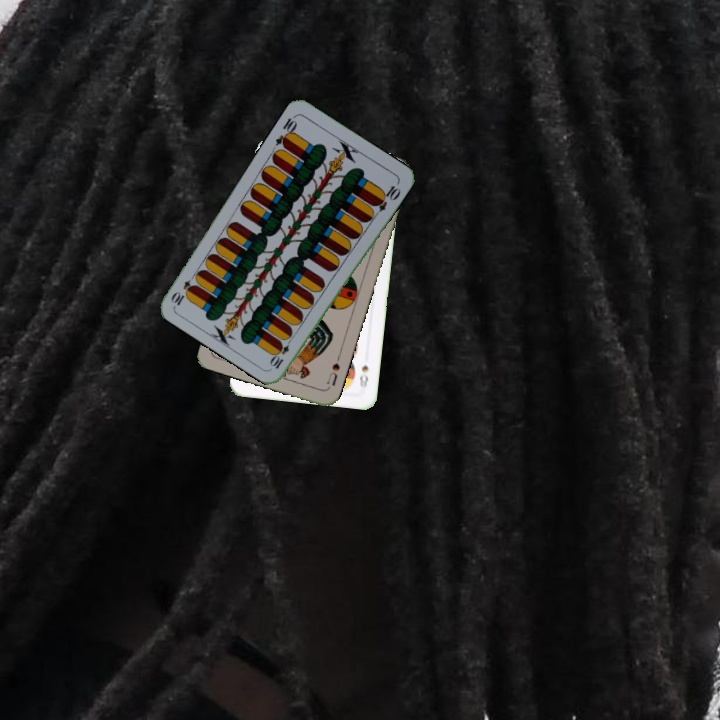E10: (271, 111, 300, 150), (267, 333, 295, 371)
S8: (355, 361, 371, 390)
SU: (322, 352, 343, 388)
